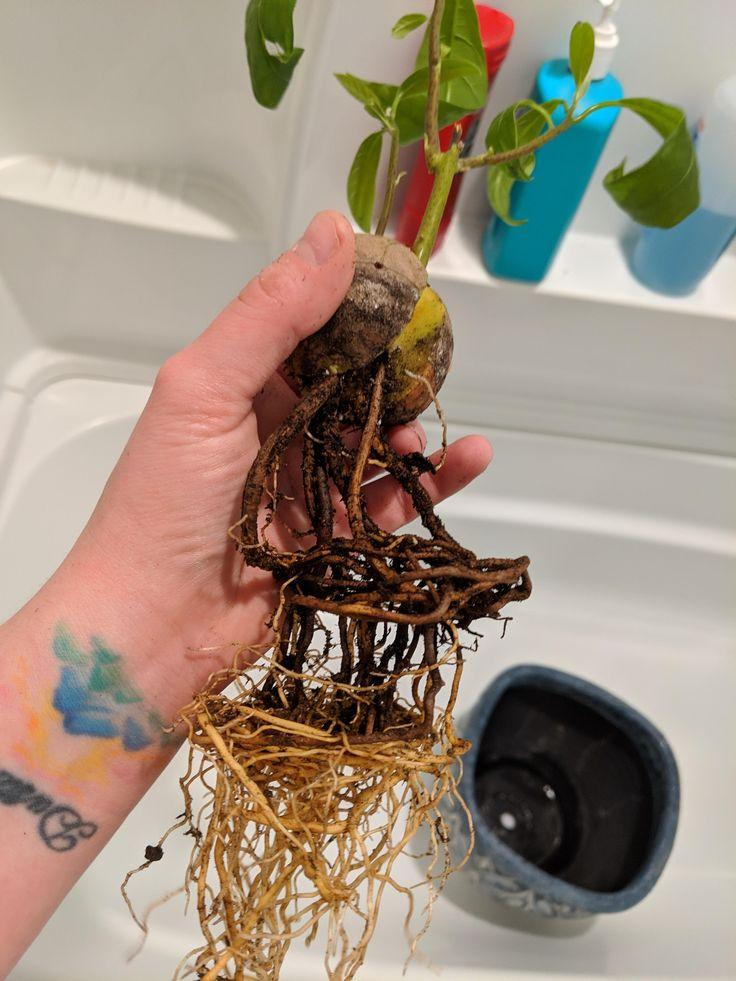root_rot: (152, 14, 626, 973)
